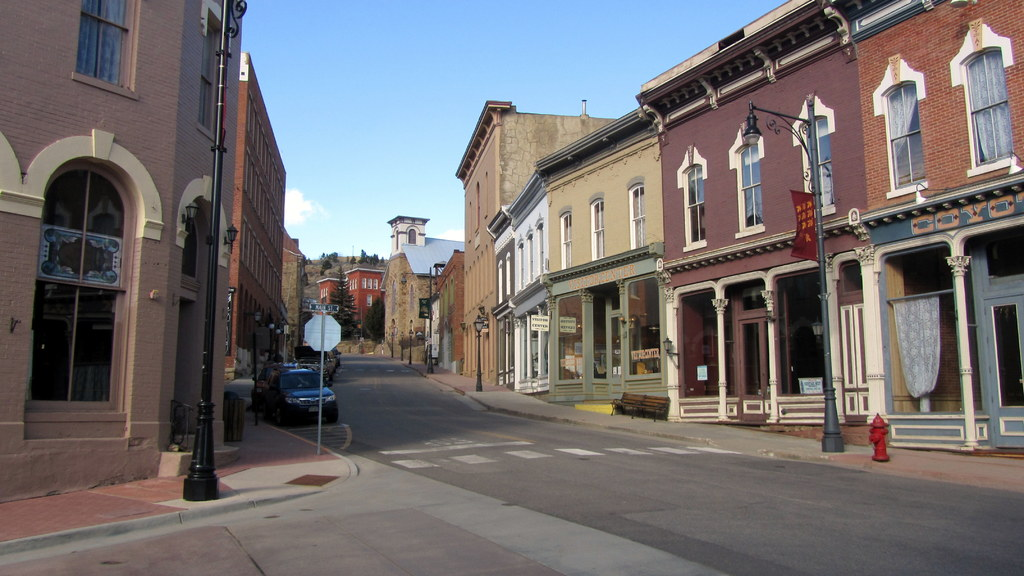Car: (264, 365, 339, 439)
